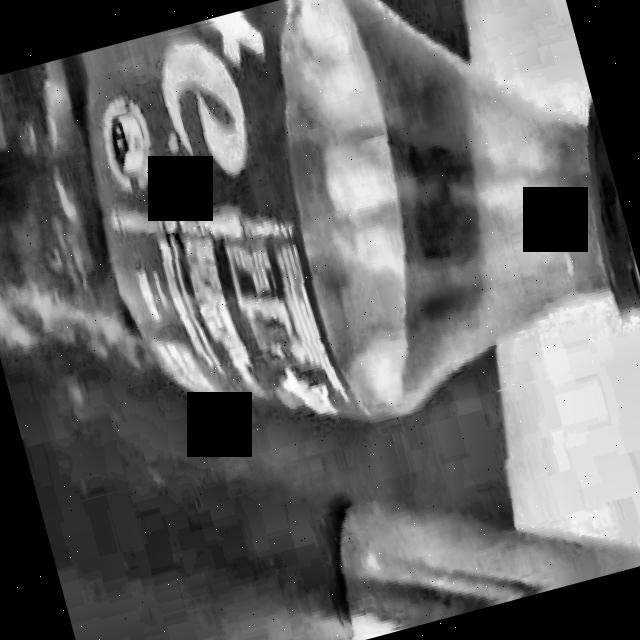bottle: (0, 0, 640, 424), (331, 505, 640, 640)
